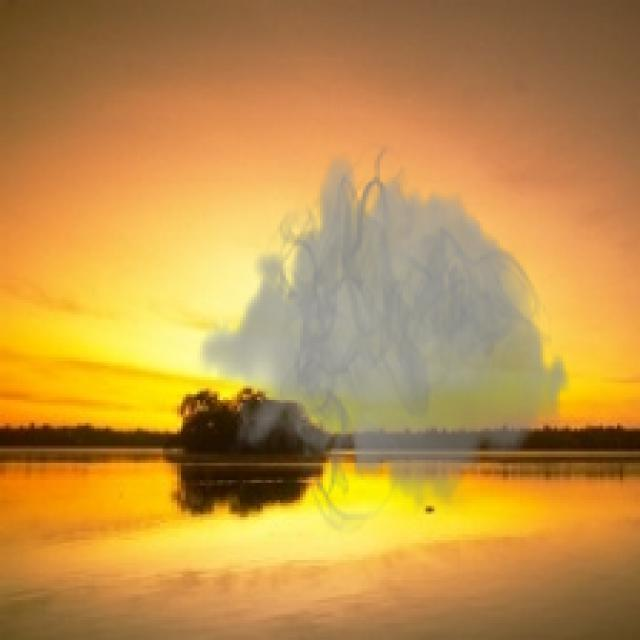Smoke: (197, 140, 572, 540)
